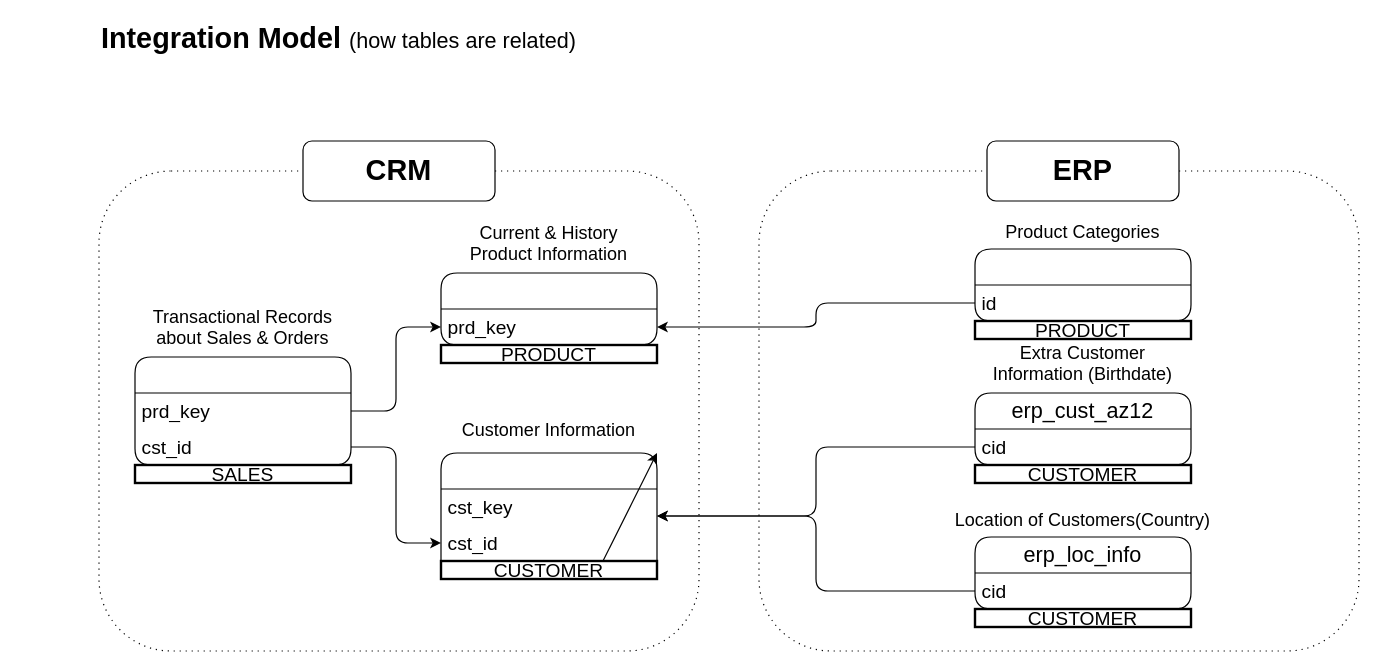
This 1380x672 diagram has some shape labels left out. Here are the shapes that lost their labels. From the top down, the box of each, then its label:
(974, 248, 1191, 321): erp_prod_cat_info
(440, 272, 657, 345): crm_prd_info
(134, 356, 351, 465): crm_sales_info
(440, 452, 657, 579): crm_cust_info
